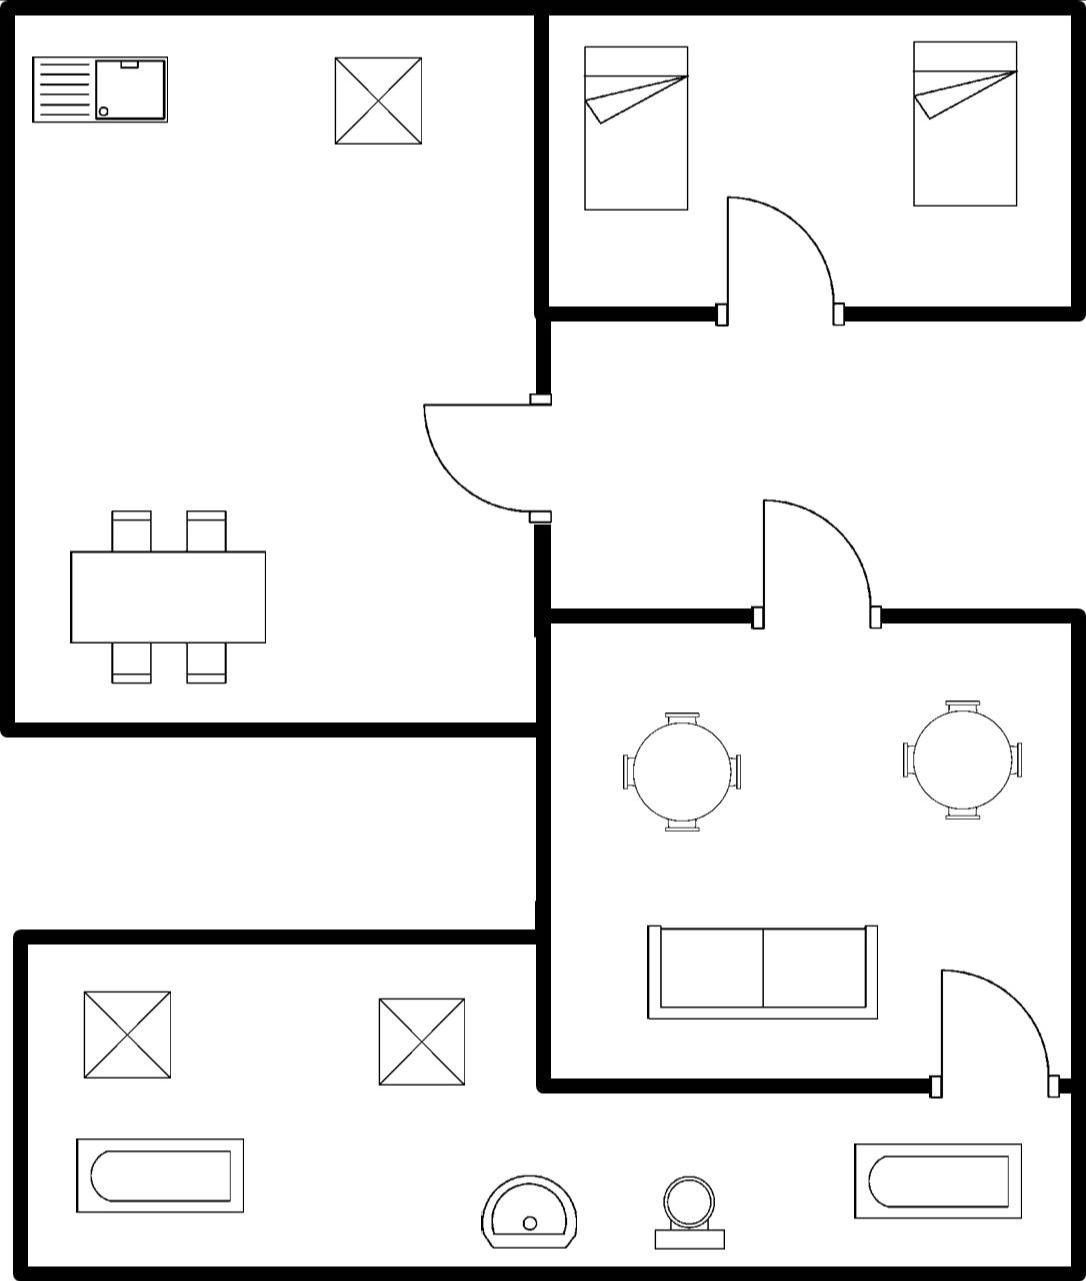bed: (904, 30, 1031, 218), (573, 37, 699, 219)
dining_table: (59, 498, 278, 692)
round_table: (888, 690, 1033, 827), (609, 704, 749, 838)
sink: (22, 47, 182, 129)
sofa: (629, 914, 887, 1028)
toilet: (641, 1167, 734, 1259)
tub: (843, 1129, 1031, 1229), (67, 1129, 254, 1222)
